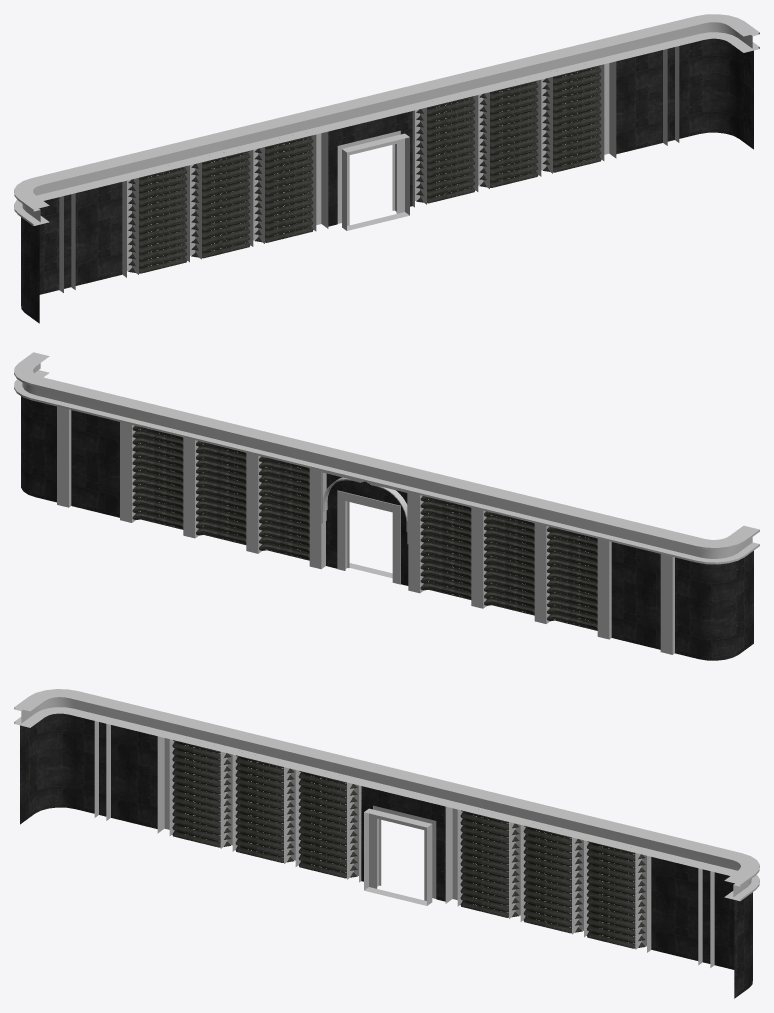
Rendered from tesla_modules_core_wall_outer_door.dae.
3 views of the same model, one above another, from view 1: azimuth 30°, elevation 25°; view 2: azimuth 150°, elevation 25°; view 3: azimuth 330°, elevation 25° (orthographic).
Parts seen in each view (by area): view 1: polySurface131, polySurface124, polySurface123; view 2: polySurface131, polySurface124, polySurface123; view 3: polySurface131, polySurface124, polySurface123.
Boxes of the visible parts, x1,y1,x2,y2 form: polySurface131: (14,14,759,292); polySurface124: (128,65,601,273); polySurface123: (21,38,753,323); polySurface131: (14,352,759,654); polySurface124: (132,425,597,630); polySurface123: (21,396,753,660); polySurface131: (14,689,759,967); polySurface124: (172,740,645,948); polySurface123: (20,713,752,998).
Bounding box in the file's own units: 46.03 × 7 × 3.61.
